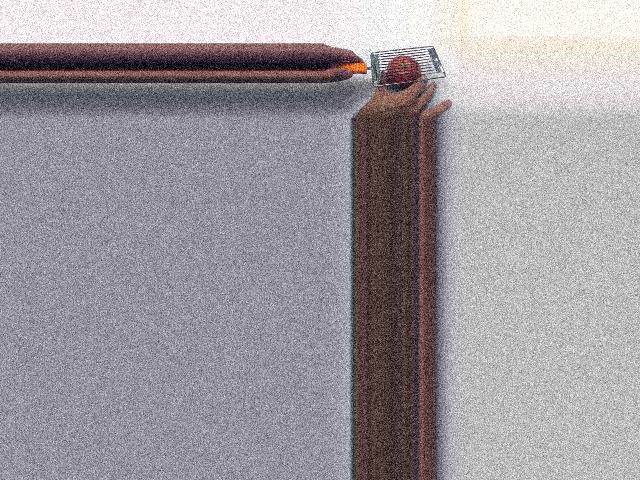tomato: (385, 56, 419, 88)
